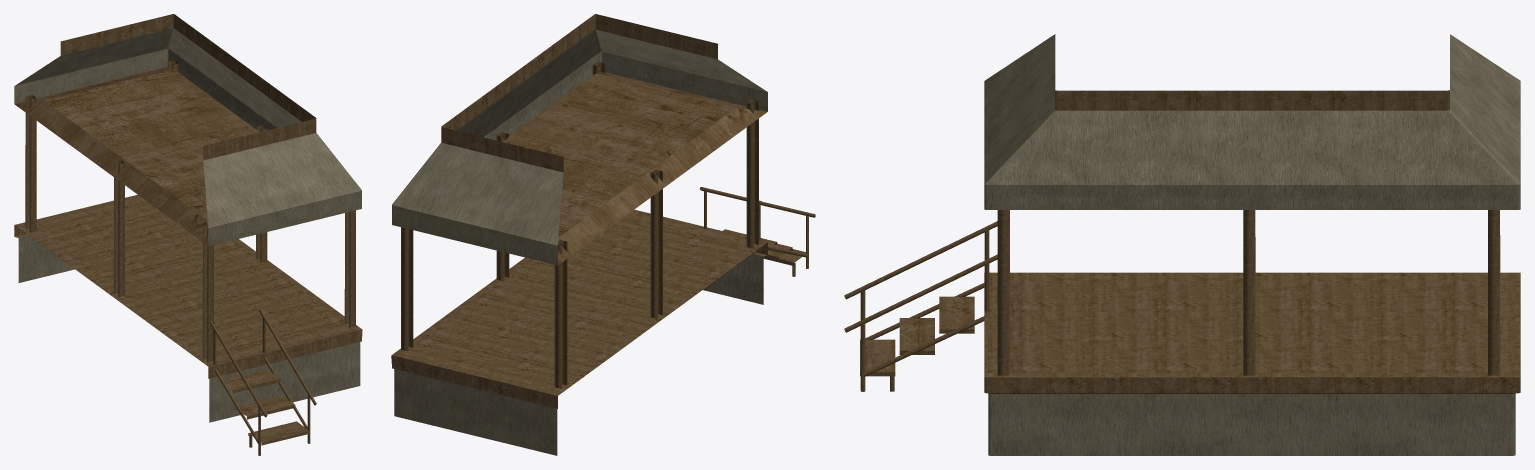
The model's file is mdl_brush_stage.gltf.
3 views of the same model, side by side, from view 1: azimuth 30°, elevation 25°; view 2: azimuth 150°, elevation 25°; view 3: azimuth 270°, elevation 25° (orthographic). The views are drawn at different scales.
Visible parts, largest first — view 1: Plane.019; view 2: Plane.019; view 3: Plane.019.
Part boxes in pixels (x1,y1,x2,y2): Plane.019: (14,14,362,455); Plane.019: (391,14,815,455); Plane.019: (844,34,1520,455).
Bounding box in the file's own units: 1.81 × 2.87 × 4.98.
Materials: 2 (2 with a texture image).
